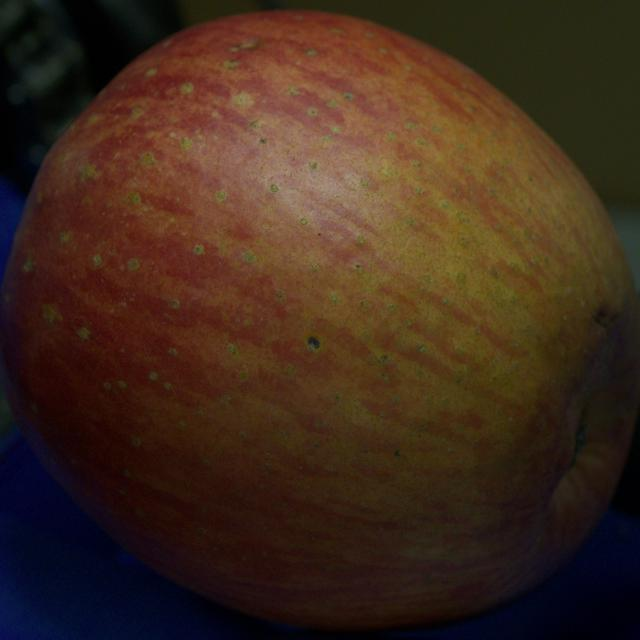apple: (0, 11, 639, 630)
pest: (593, 308, 616, 327), (238, 39, 259, 49), (308, 336, 319, 350)
